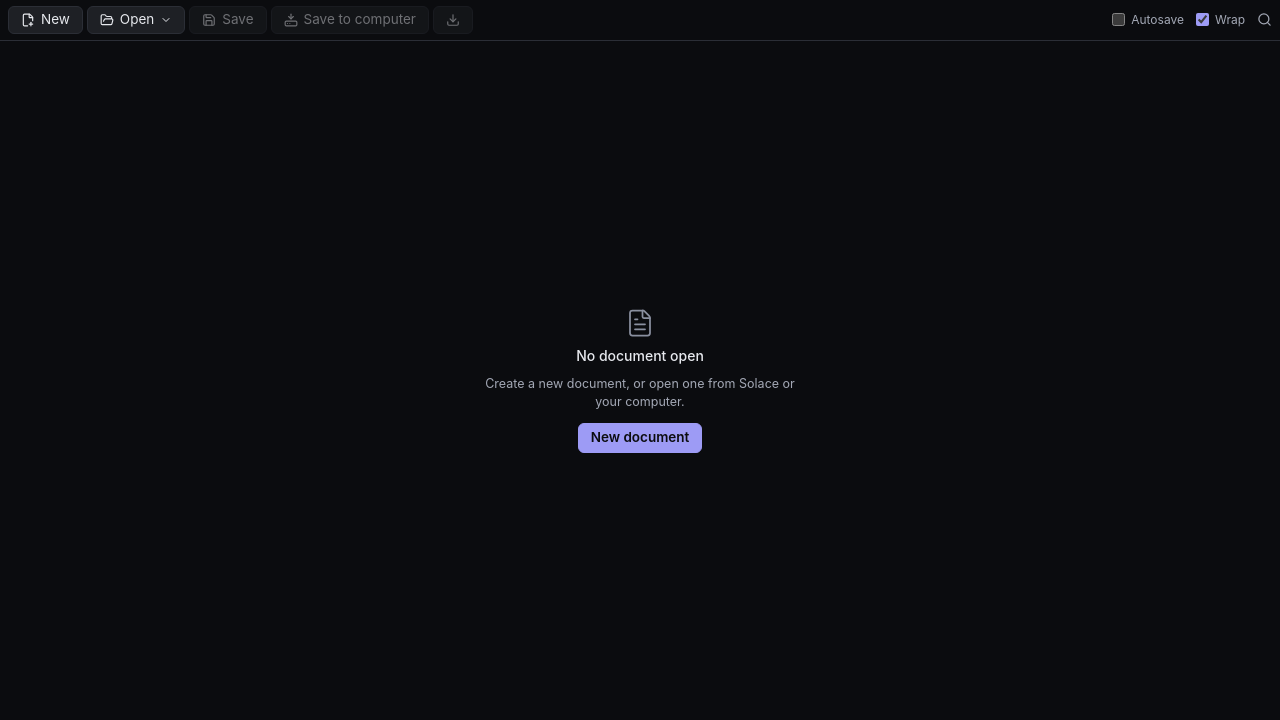
it: Text Editor › manual save asks for a name for untitled documents and clears the dirty marker
Click the button with aria-label "New document": {"x": 45, "y": 20} [8,6,83,34]
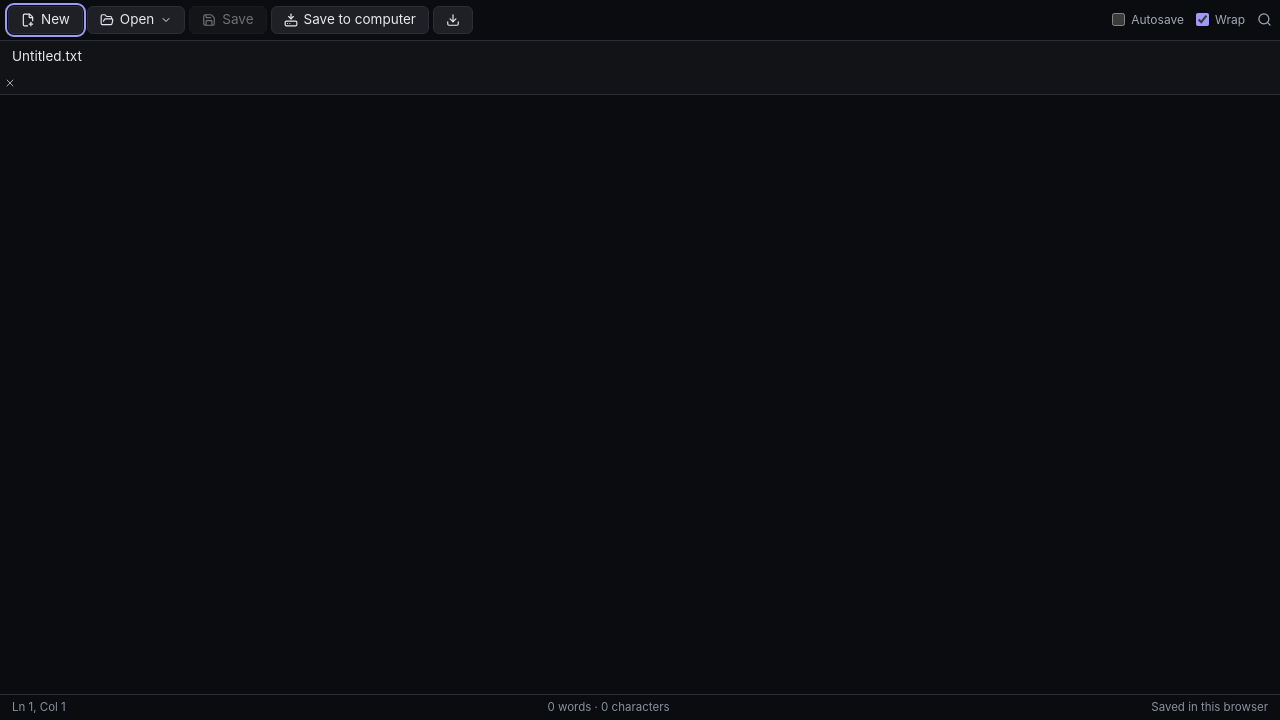
In the text box named "Editing Untitled.txt": {"x": 640, "y": 395} [0,95,1279,694], type "content"
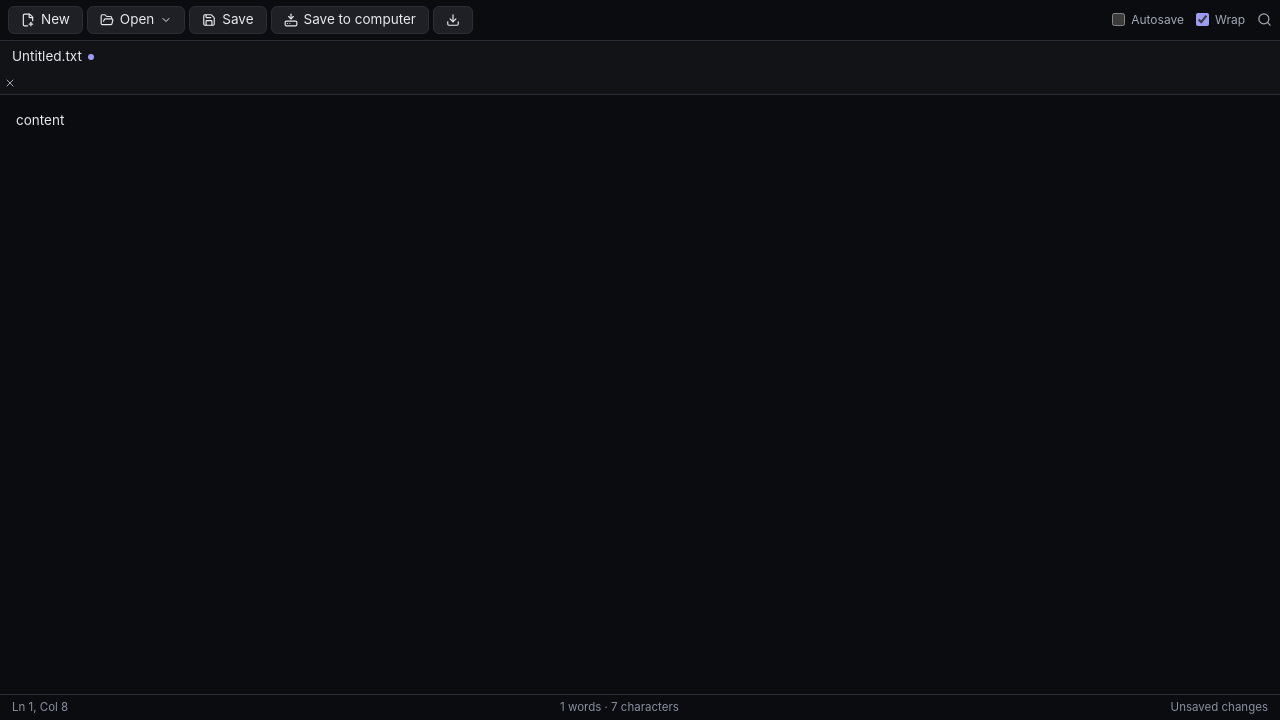
Click the button "Save": {"x": 228, "y": 20} [189,6,267,34]
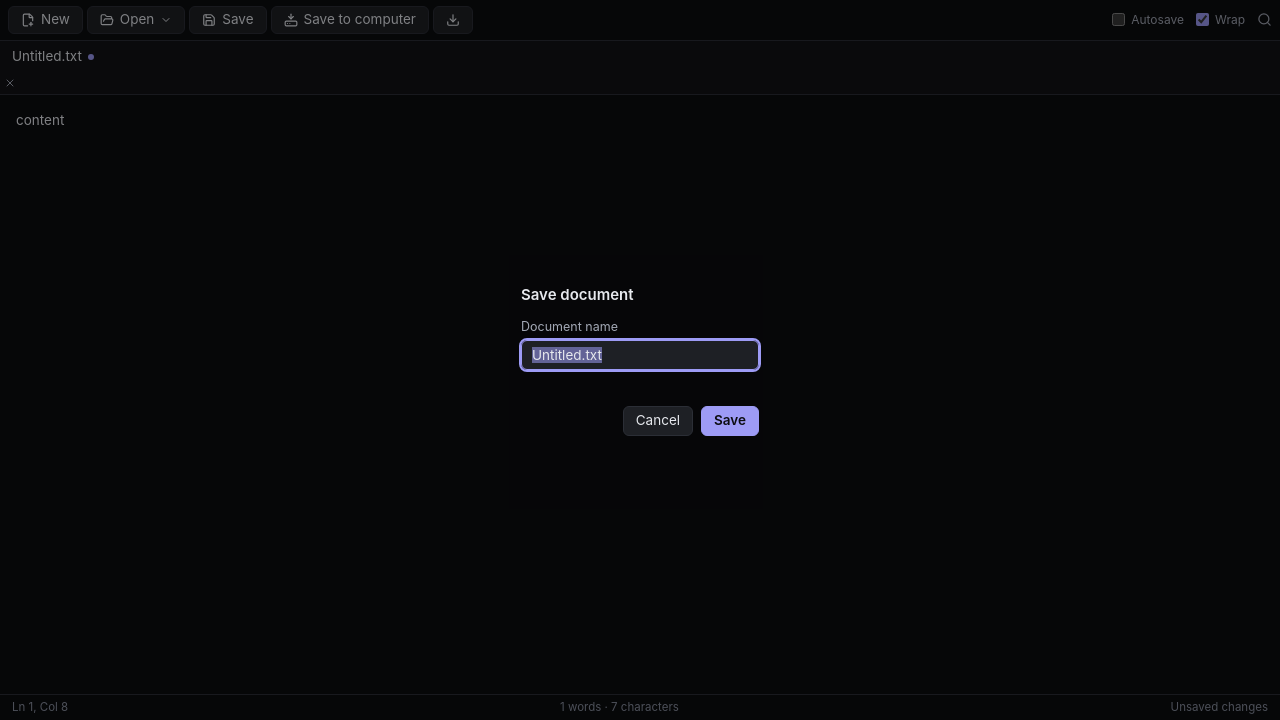
Clear the field labelled "Document name": {"x": 640, "y": 355} [521,340,759,370]
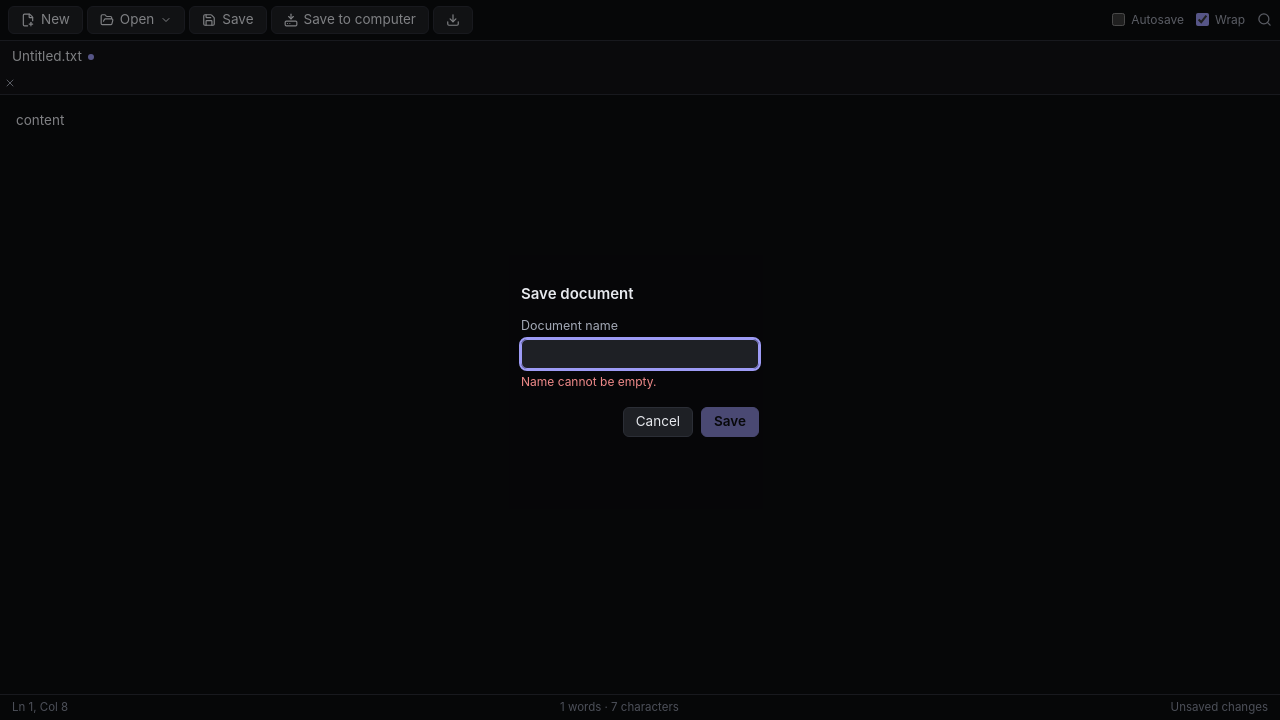
In the field labelled "Document name": {"x": 640, "y": 354} [521,339,759,369], type "journal.txt"
Then press Enter
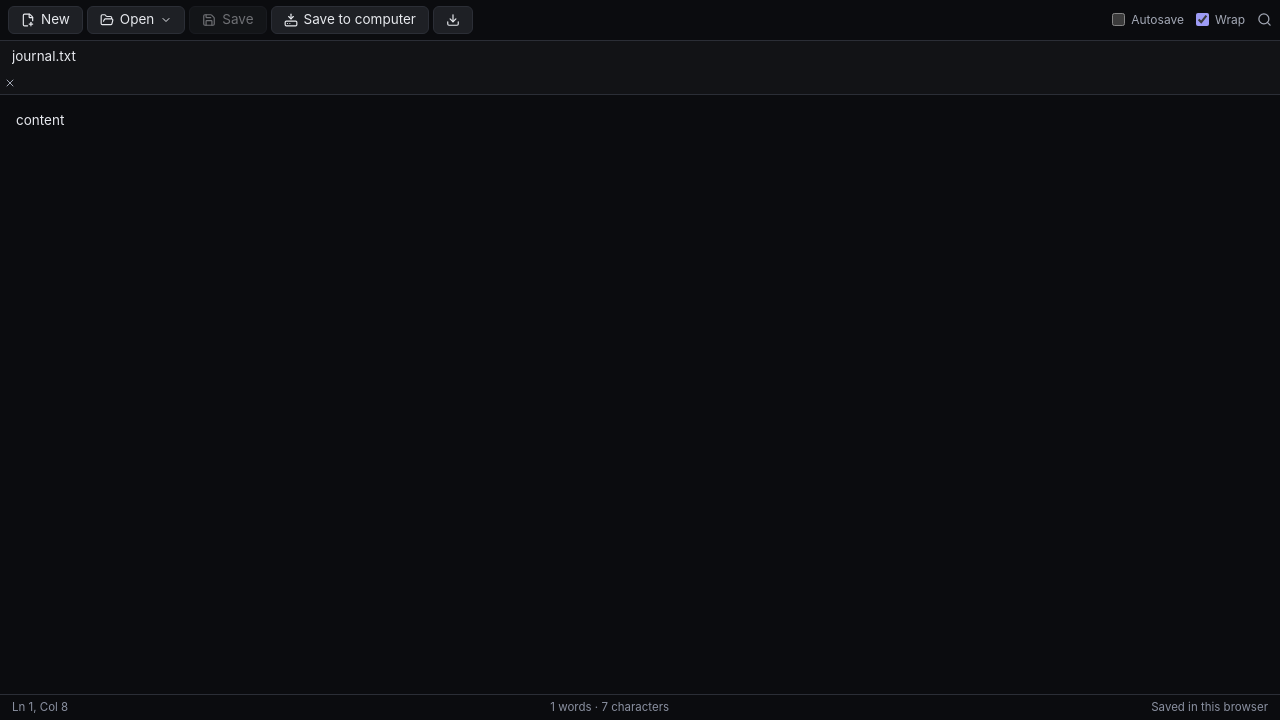
expect the text labelled "Unsaved changes" is gone: met
